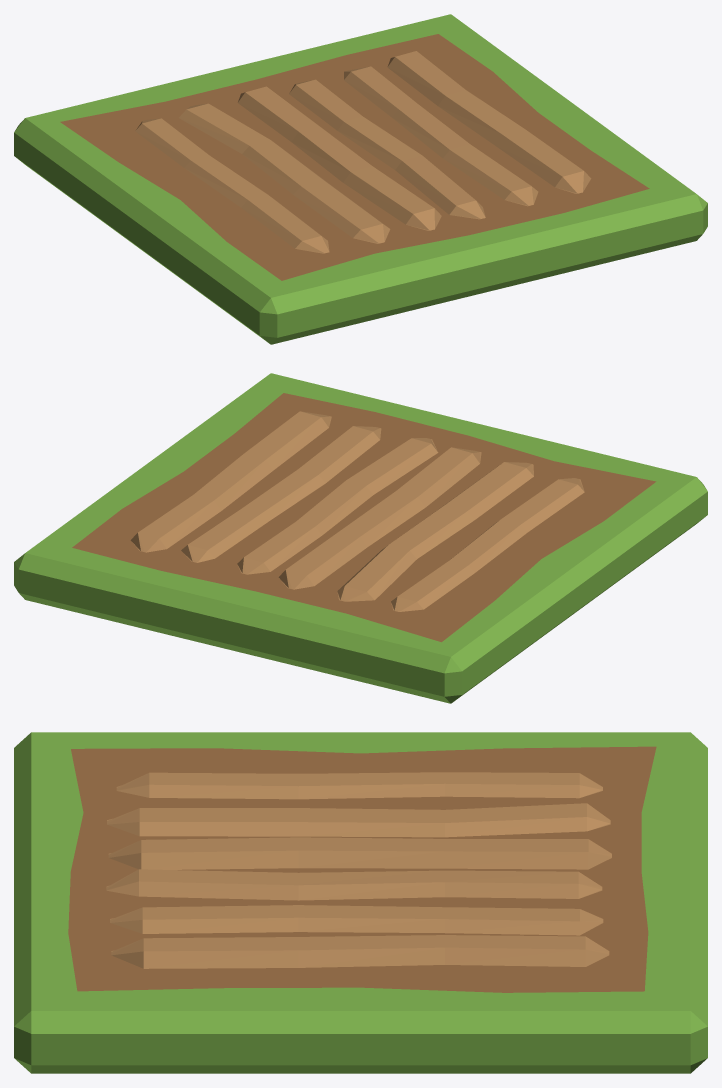
Rendered from tile_soil_b.fbx.
The picture shows the model from 3 angles, top to bottom: view 1: azimuth 30°, elevation 25°; view 2: azimuth 150°, elevation 25°; view 3: azimuth 270°, elevation 25°; orthographic projection. The views are drawn at different scales.
Parts seen in each view (by area): view 1: tile_soil_b; view 2: tile_soil_b; view 3: tile_soil_b.
Boxes of the visible parts, bbox=[...] form: tile_soil_b: bbox=[14, 14, 707, 344]; tile_soil_b: bbox=[14, 373, 707, 703]; tile_soil_b: bbox=[14, 732, 707, 1073].
Bounding box in the file's own units: 1 × 0.121 × 1.
